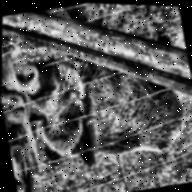boar: (15, 29, 192, 186)
